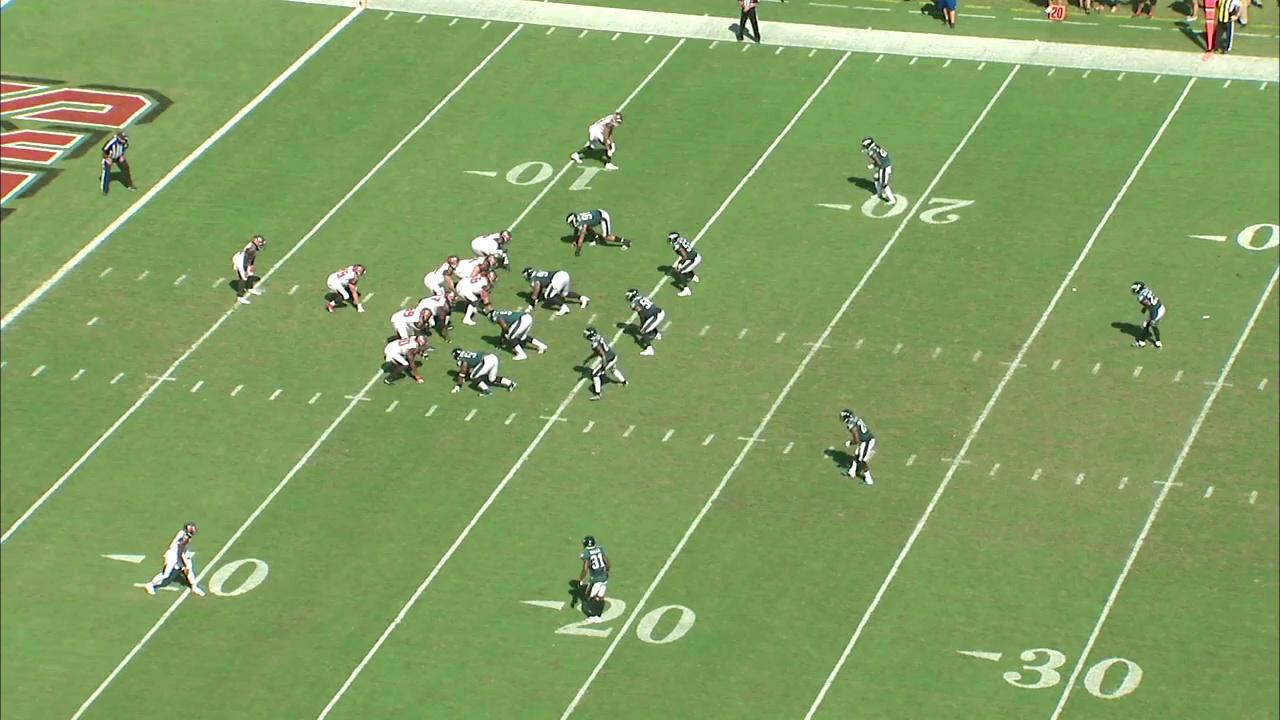player: (145, 519, 206, 597), (519, 263, 591, 314), (569, 103, 626, 167), (579, 534, 618, 621), (838, 409, 879, 487), (580, 328, 626, 395), (484, 310, 546, 359), (1129, 278, 1168, 355), (454, 349, 516, 397), (233, 231, 272, 304), (562, 210, 632, 250), (627, 286, 667, 356), (860, 133, 894, 211), (381, 334, 431, 385), (667, 230, 703, 296), (324, 262, 367, 314), (463, 271, 498, 328), (427, 291, 462, 344), (472, 227, 511, 271), (423, 251, 465, 289), (391, 304, 436, 334), (456, 255, 501, 278)
ref: (93, 132, 136, 197), (734, 0, 764, 43)
